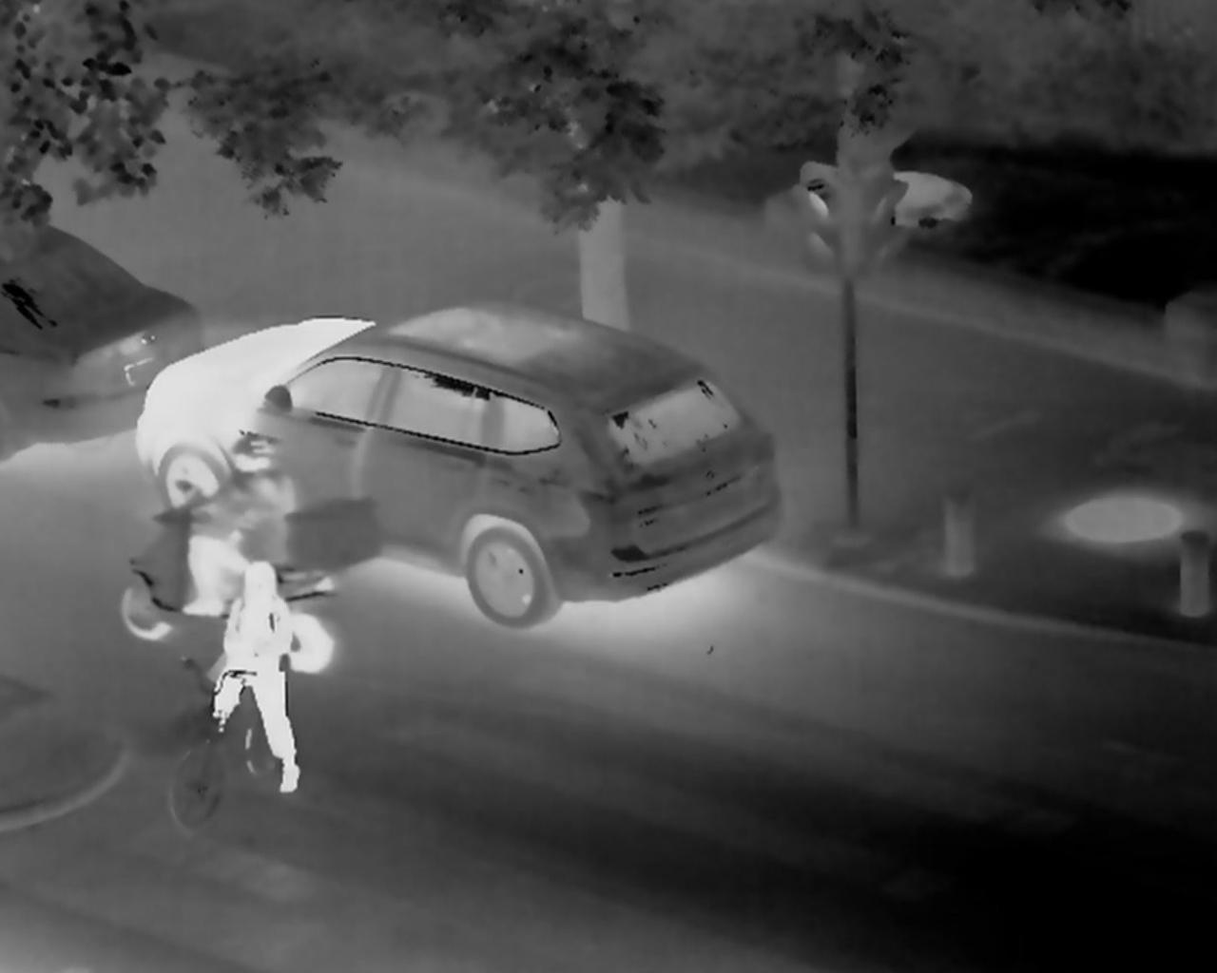person: (212, 563, 305, 795), (183, 430, 297, 615)
